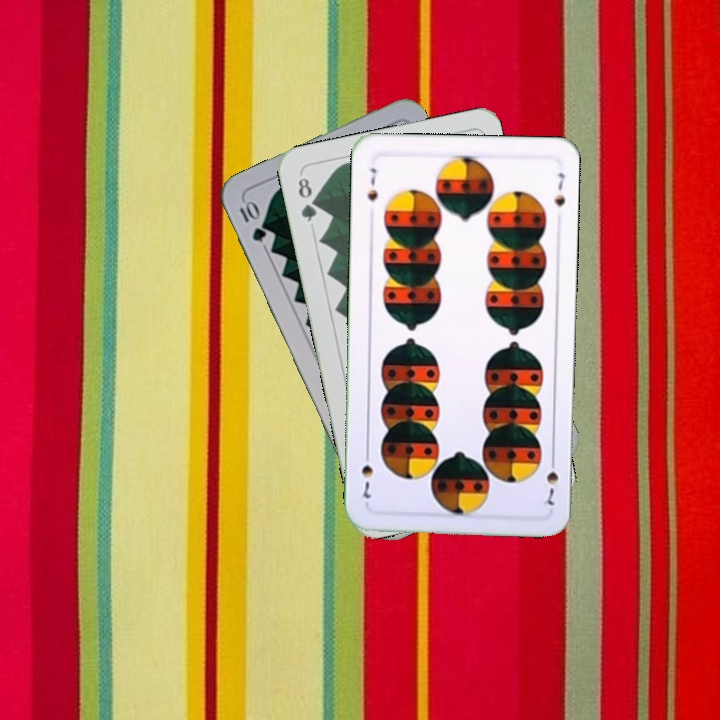G10: (235, 196, 269, 245)
G8: (294, 173, 320, 225)
S7: (539, 452, 561, 508), (363, 164, 380, 204)
